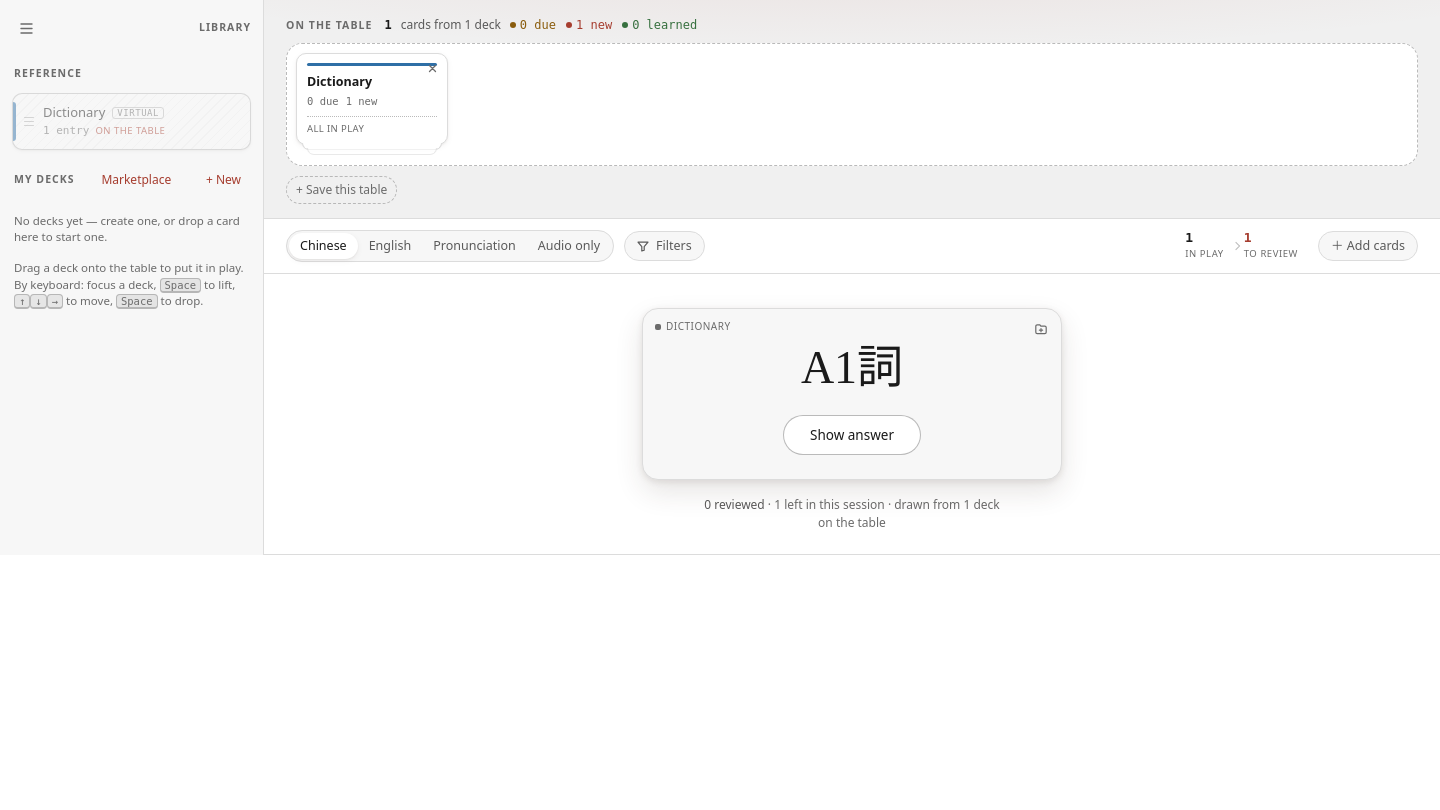
Scenario: FlashcardsView filters › persists a deselected level and drops the entries behind it
Expected: the text "A1詞" is shown, top-left (801, 339), bottom-right (903, 397)
Click the button "Filters". click: x=664, y=246
box: top-left (624, 231), bottom-right (705, 261)
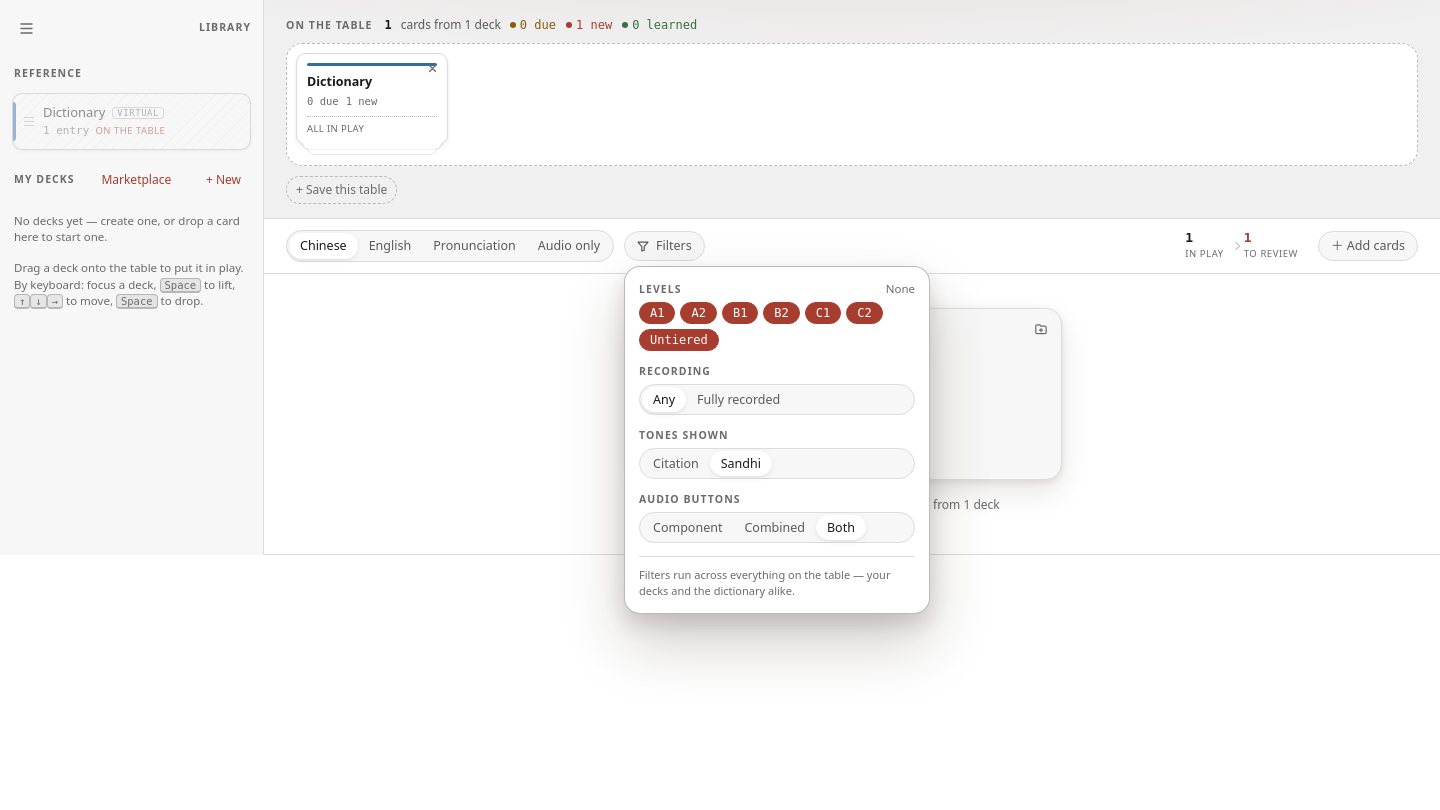
Click the button "A1". click: x=657, y=313
box: top-left (639, 302), bottom-right (676, 324)
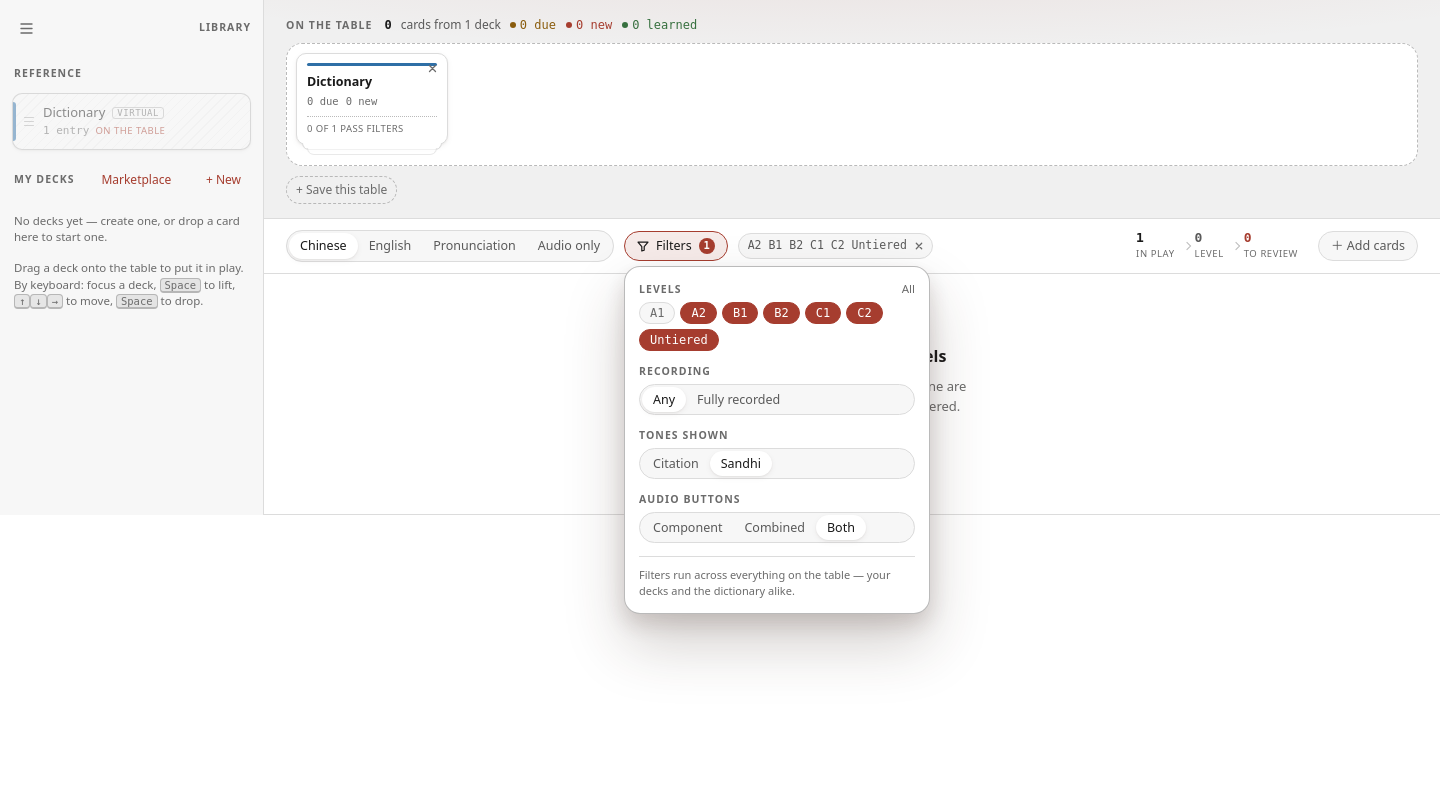
Now the text "No cards at these levels" is shown, box top-left (758, 344), bottom-right (946, 368)
